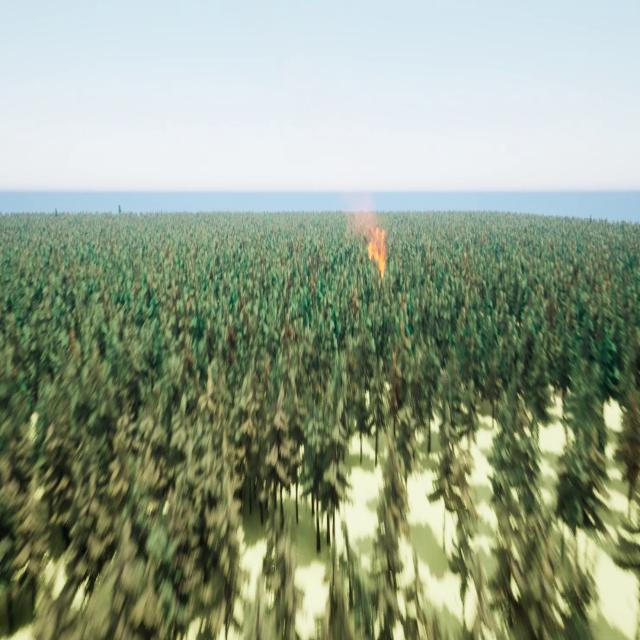fire: (366, 224, 390, 276)
smoke: (343, 192, 376, 242)
